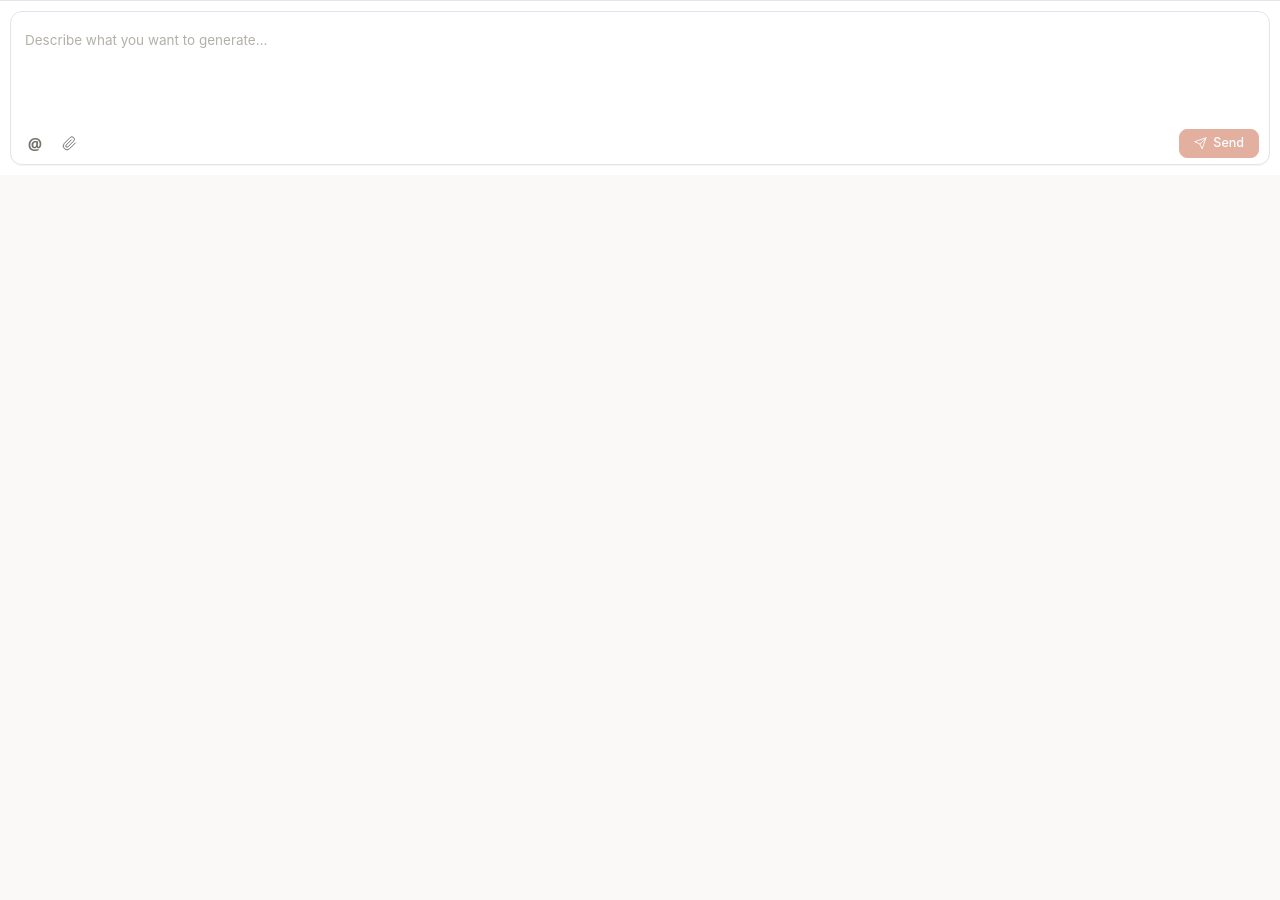
Test: ChatComposer context pickers › opens the @ panel even when every source is empty
Type "@" into the text box with test id "chat-composer-input".
click(640, 70); type("@")  # box [21, 26, 1259, 114]
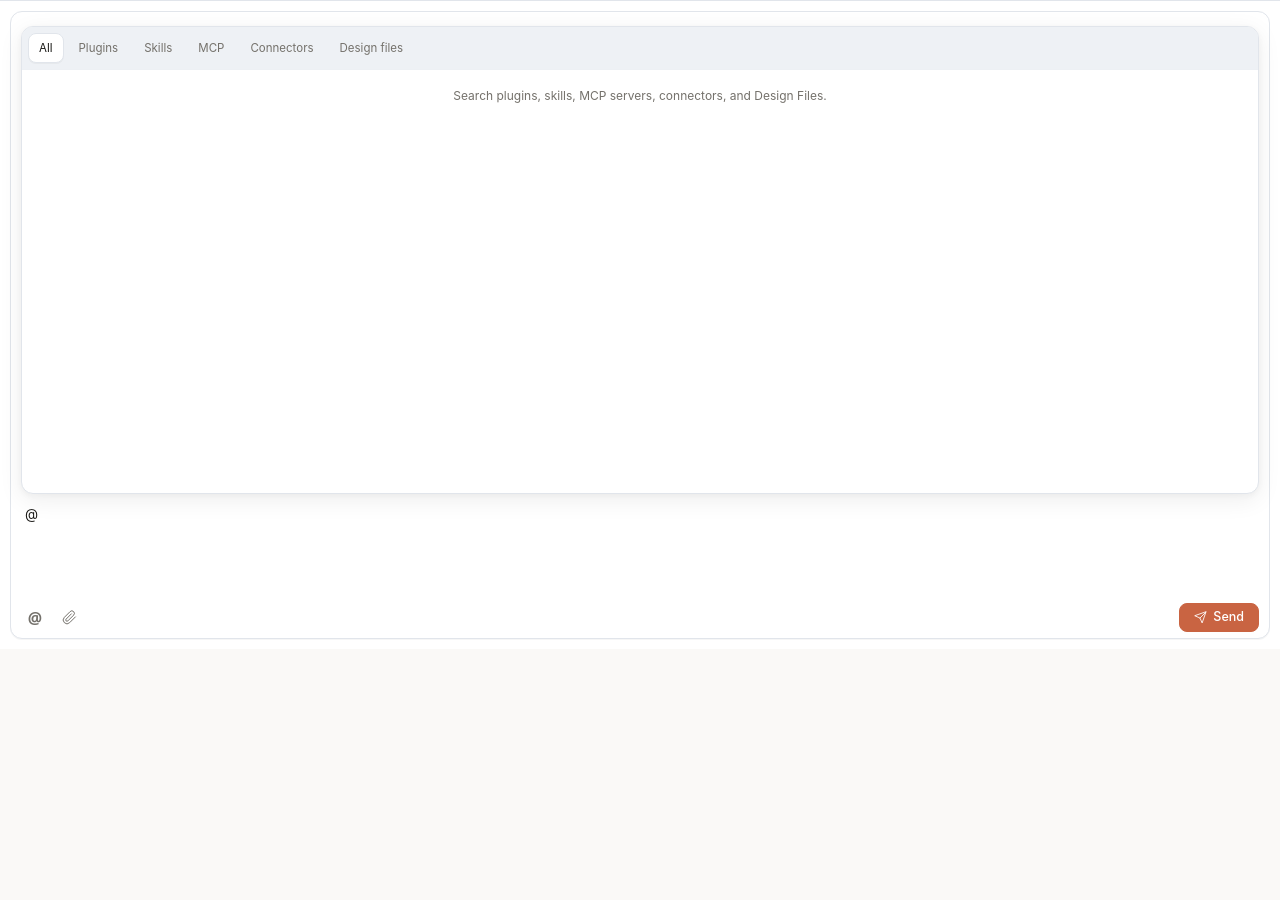
Expected: the element with test id "mention-popover" is shown, [21, 26, 1259, 494]
Expected: the tab "Plugins" is shown, [68, 33, 129, 63]
Expected: the tab "Skills" is shown, [133, 33, 183, 63]
